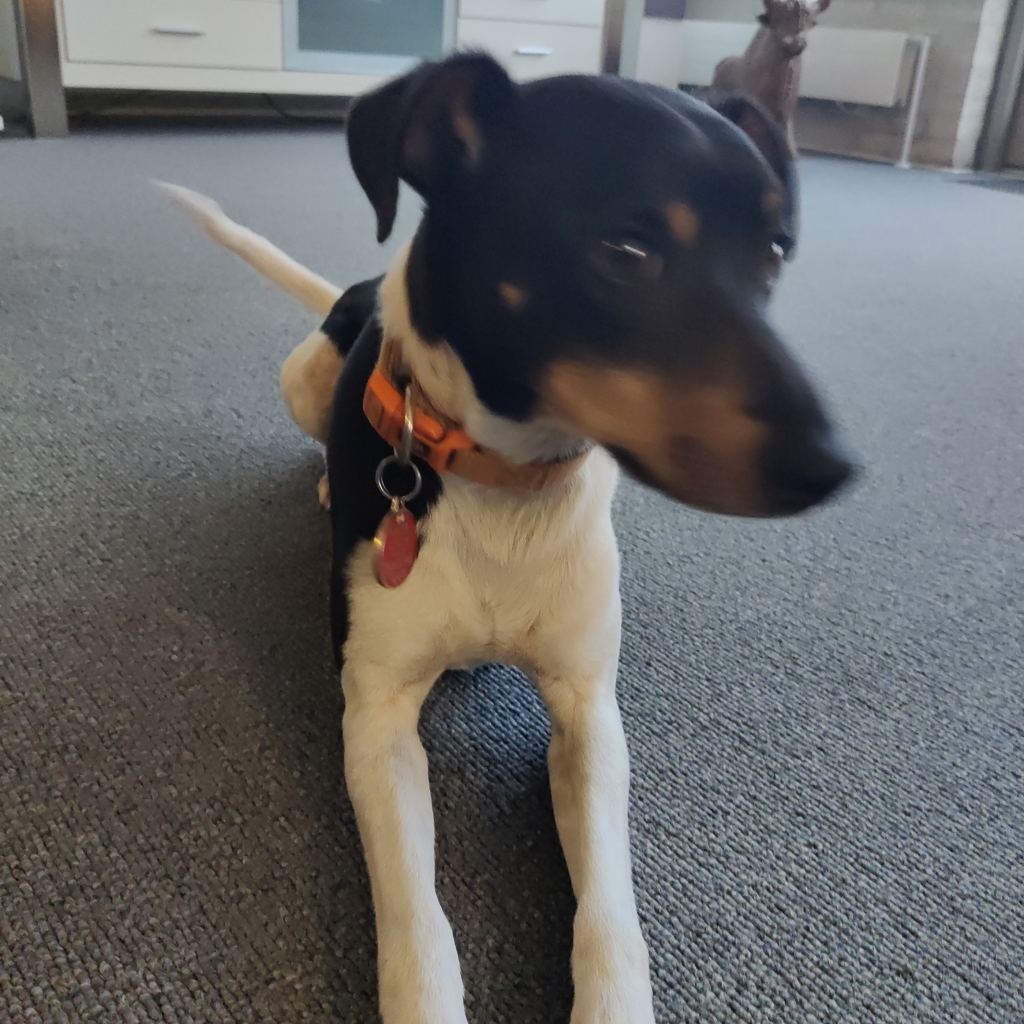Cattle: (703, 0, 843, 163)
Dog: (132, 42, 882, 1024)
